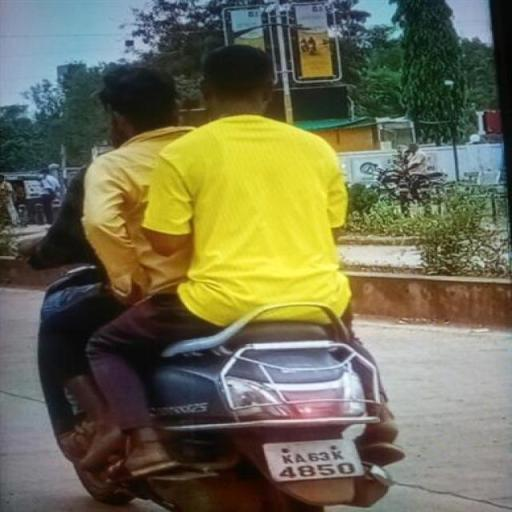tripple riding: (0, 42, 362, 347)
